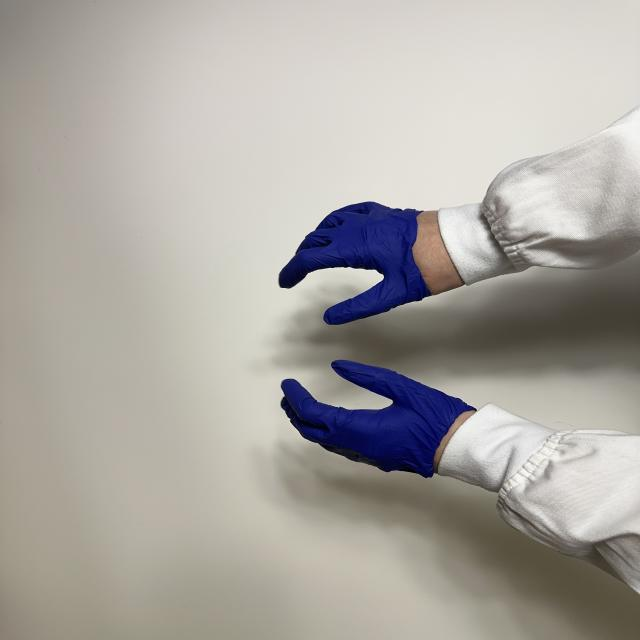glove_not_fitted: (278, 356, 478, 481), (278, 200, 470, 326)
